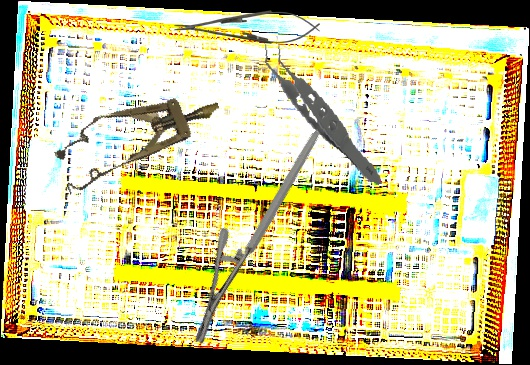Needle Holder: (142, 130, 374, 347), (173, 10, 320, 44)
Speculum: (47, 74, 231, 198)
Tissue Forceps: (261, 19, 383, 200)
